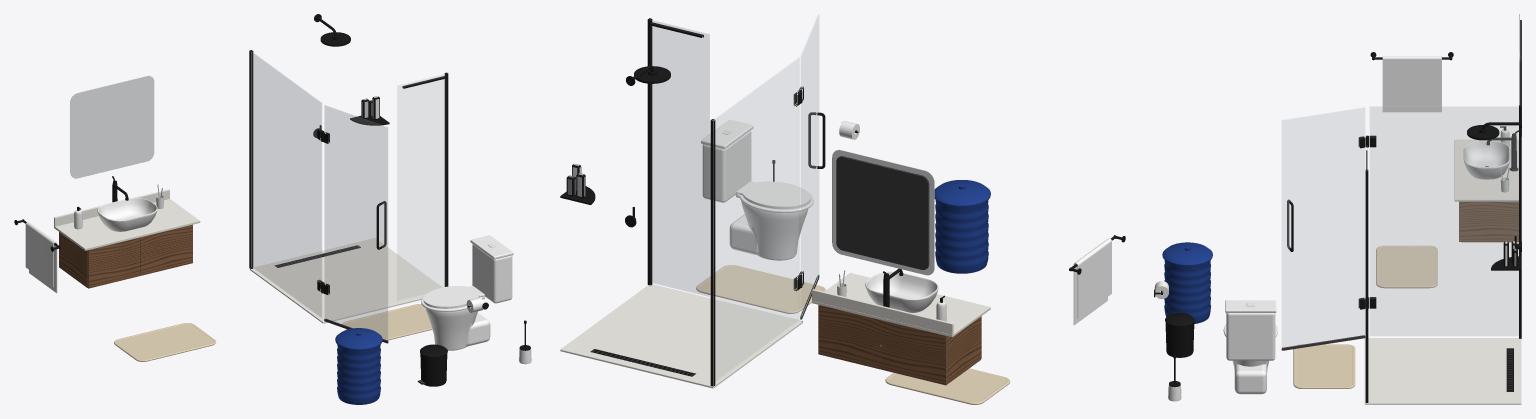
Rendered from BB_Banheiro.fbx.
The picture shows the model from 3 angles, left to right: view 1: azimuth 30°, elevation 25°; view 2: azimuth 150°, elevation 25°; view 3: azimuth 270°, elevation 25°; orthographic projection. The views are drawn at different scales.
Visible parts, largest first — view 1: Ban_Box, Ban_Box_Porta, Ban_Espelho, Ban_Vaso, Ban_Tapetes, Ban_Cesto_Roupa, Ban_Tampo, Ban_Gabinete_Porta_E, Ban_Gabinete_Porta_D, Ban_Toalha, Ban_Cuba, Ban_Lixeira (+4 smaller); view 2: Ban_Box, Ban_Espelho, Ban_Gabinete, Ban_Vaso, Ban_Tapetes, Ban_Box_Porta, Ban_Cesto_Roupa, Ban_Tampo, Ban_Toalha, Ban_Cuba, Ban_Vaso_Tampa, Ban_Cantoneira_Box (+1 smaller); view 3: Ban_Box, Ban_Box_Porta, Ban_Tapetes, Ban_Vaso, Ban_Toalha, Ban_Cesto_Roupa, Ban_Gabinete, Ban_Tampo, Ban_Cuba, Ban_Lixeira, Ban_Chuveiro, Ban_Cantoneira_Box (+1 smaller).
Part boxes in pixels (bbox=[...]): Ban_Box: bbox=[249, 50, 448, 323]; Ban_Box_Porta: bbox=[323, 105, 388, 343]; Ban_Espelho: bbox=[70, 75, 154, 178]; Ban_Vaso: bbox=[425, 235, 513, 350]; Ban_Tapetes: bbox=[114, 304, 432, 361]; Ban_Cesto_Roupa: bbox=[335, 328, 382, 404]; Ban_Tampo: bbox=[54, 189, 200, 250]; Ban_Gabinete_Porta_E: bbox=[87, 237, 140, 288]; Ban_Gabinete_Porta_D: bbox=[140, 224, 192, 275]; Ban_Toalha: bbox=[25, 222, 57, 293]; Ban_Cuba: bbox=[97, 198, 157, 231]; Ban_Lixeira: bbox=[417, 344, 447, 386]; Ban_Box: bbox=[560, 18, 802, 388]; Ban_Espelho: bbox=[832, 149, 934, 275]; Ban_Gabinete: bbox=[818, 305, 980, 385]; Ban_Vaso: bbox=[701, 119, 807, 260]; Ban_Tapetes: bbox=[696, 265, 1010, 404]; Ban_Box_Porta: bbox=[799, 14, 825, 319]; Ban_Cesto_Roupa: bbox=[934, 180, 990, 273]; Ban_Tampo: bbox=[812, 273, 990, 337]; Ban_Toalha: bbox=[1073, 238, 1111, 325]; Ban_Cuba: bbox=[865, 271, 938, 312]; Ban_Vaso_Tampa: bbox=[736, 181, 810, 209]; Ban_Cantoneira_Box: bbox=[560, 164, 595, 204]; Ban_Box: bbox=[1364, 105, 1521, 404]; Ban_Box_Porta: bbox=[1281, 107, 1365, 350]; Ban_Tapetes: bbox=[1293, 245, 1437, 388]; Ban_Vaso: bbox=[1225, 300, 1276, 394]; Ban_Toalha: bbox=[1382, 56, 1441, 112]; Ban_Cesto_Roupa: bbox=[1162, 242, 1212, 323]; Ban_Gabinete: bbox=[1461, 201, 1518, 242]; Ban_Tampo: bbox=[1454, 139, 1518, 201]; Ban_Cuba: bbox=[1463, 140, 1510, 179]; Ban_Lixeira: bbox=[1165, 312, 1194, 357]; Ban_Chuveiro: bbox=[1467, 119, 1521, 251]; Ban_Cantoneira_Box: bbox=[1491, 241, 1521, 270].
Size of the model in its own units: 3.75 by 2.19 by 2.85.
